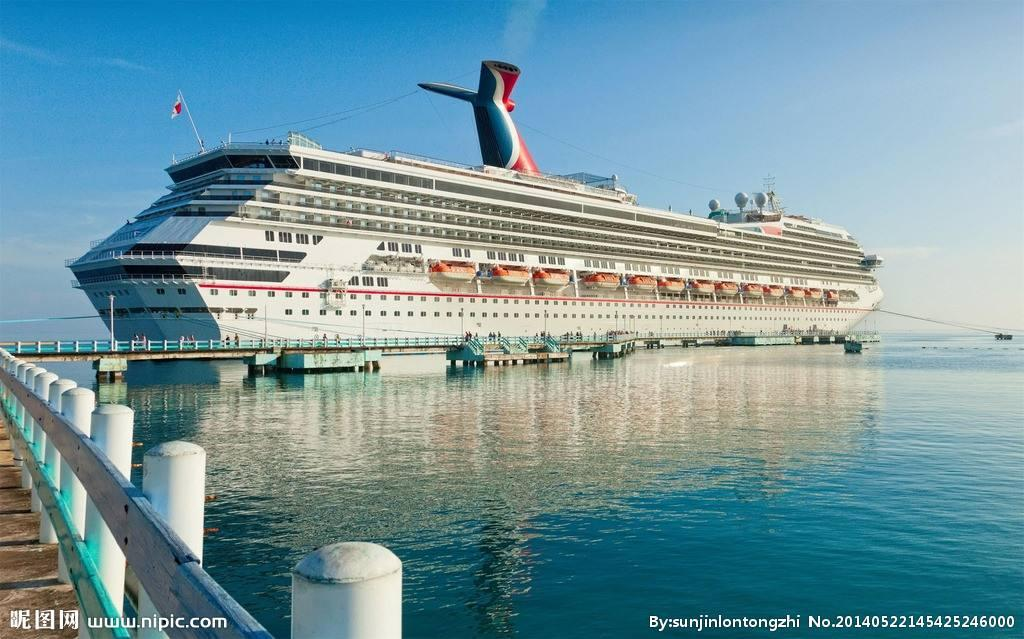youlun: (62, 54, 886, 354)
